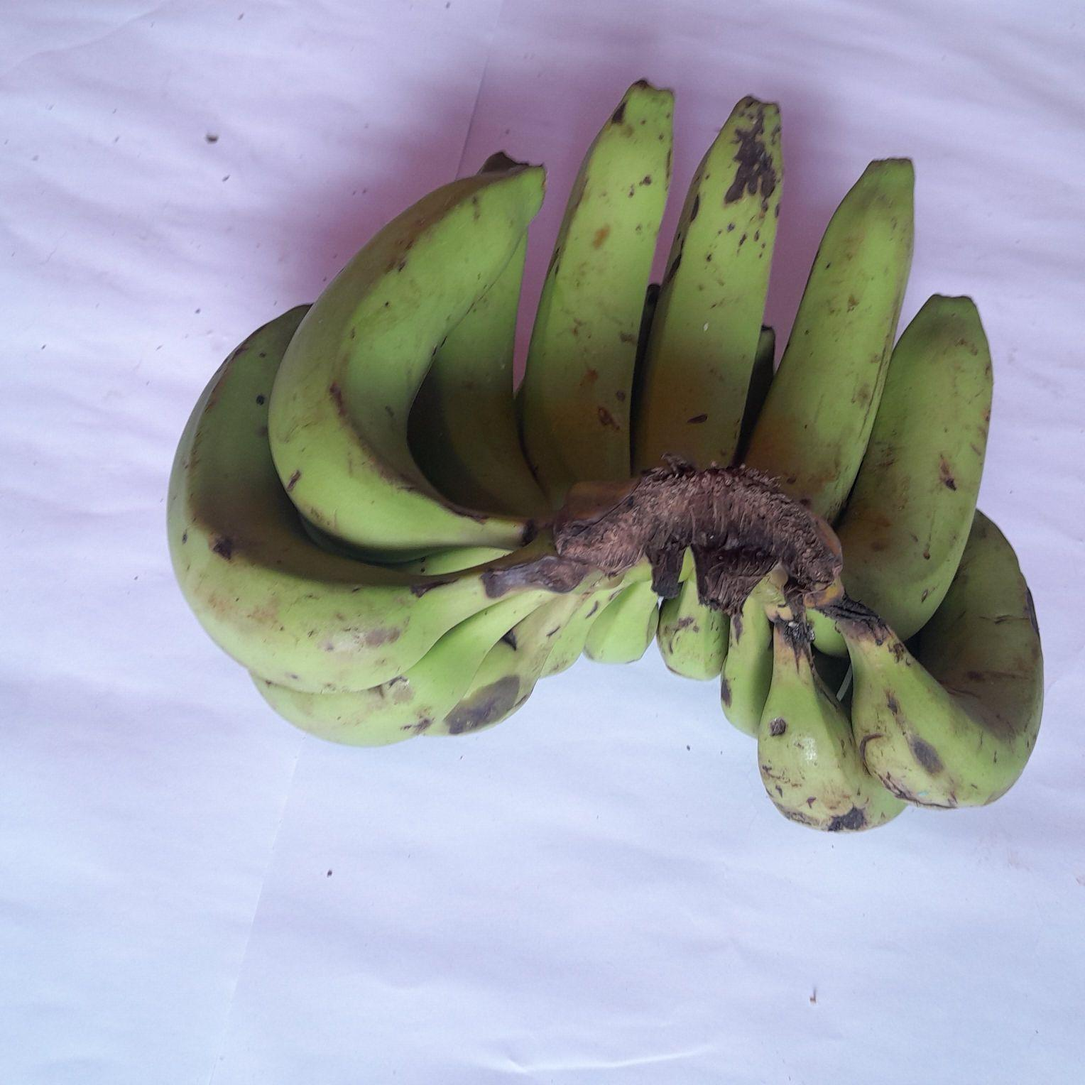Banana Unripe: (167, 307, 500, 692), (269, 157, 545, 554), (519, 81, 674, 506), (744, 159, 913, 521), (835, 515, 1043, 808), (632, 97, 782, 473), (837, 295, 992, 639), (254, 591, 551, 746), (409, 235, 551, 517), (759, 612, 905, 831), (426, 593, 585, 735), (657, 572, 731, 680), (721, 593, 773, 736), (585, 581, 659, 663)
